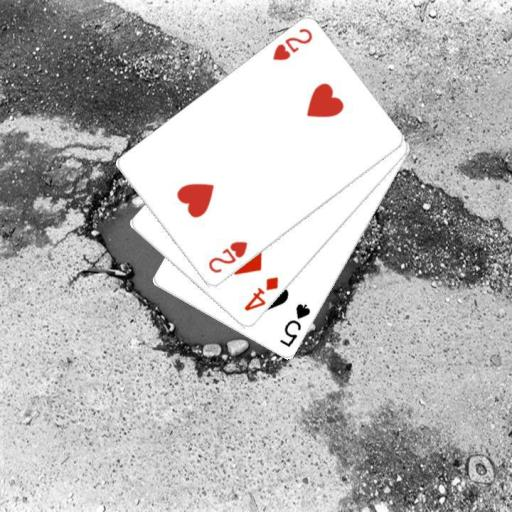2H: (269, 25, 314, 63), (205, 238, 249, 275)
4D: (241, 274, 281, 314)
5S: (277, 301, 312, 349)
